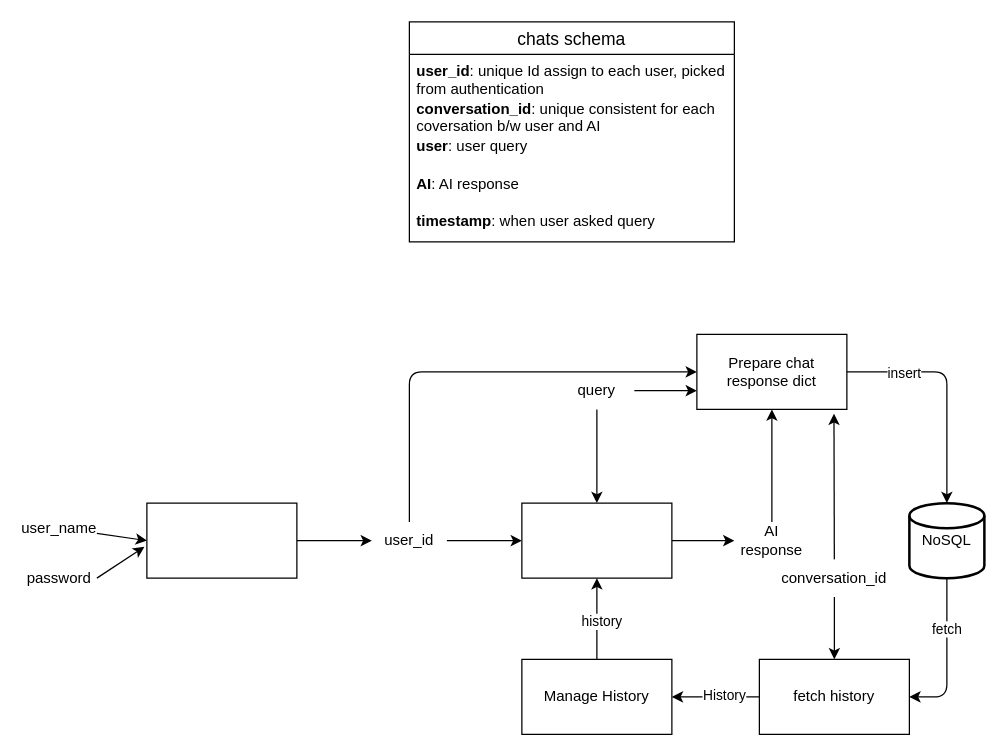
Image size: 1006x756. Some labels were removed from this diagram. The shapes that lost their labels are listed below. From the top down, each one's centre as x and y in pixels, then its label:
At [221,540]: "Authentication".
At [596,540]: "LLM".
